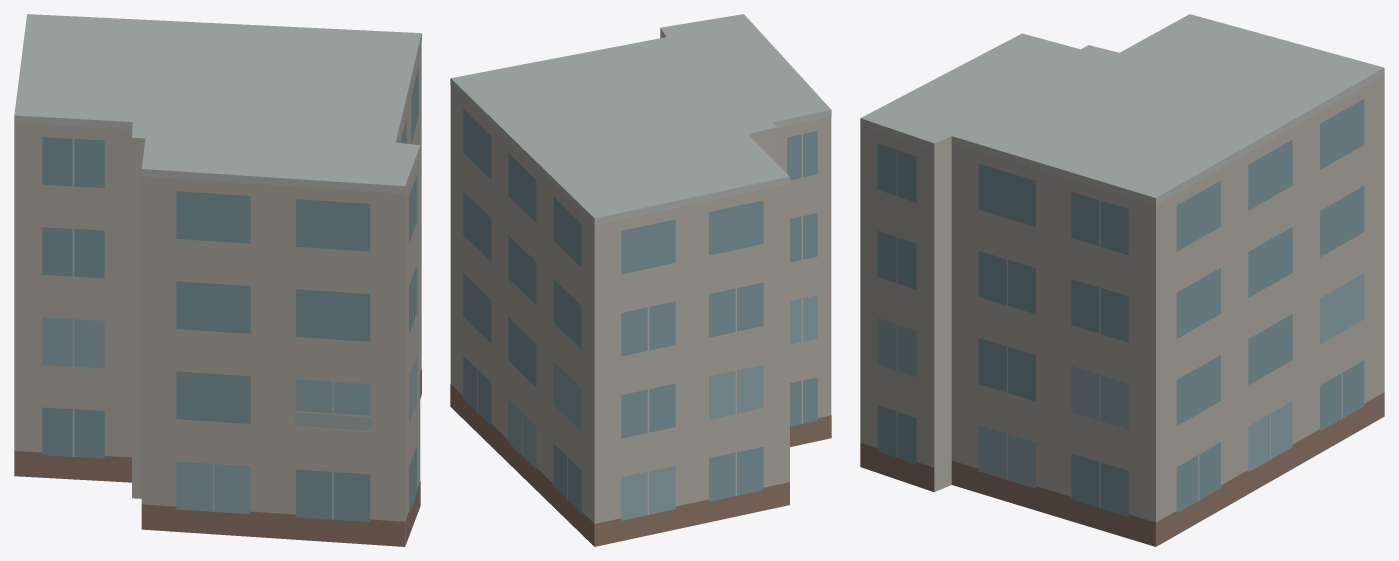
The model's file is survey-upis-32767761.glb.
3 views of the same model, side by side, from view 1: azimuth 30°, elevation 25°; view 2: azimuth 150°, elevation 25°; view 3: azimuth 270°, elevation 25° (orthographic). The views are drawn at different scales.
Visible parts, largest first — view 1: survey-upis-32767761.tmp; view 2: survey-upis-32767761.tmp; view 3: survey-upis-32767761.tmp.
Part boxes in pixels (<box>): survey-upis-32767761.tmp: <box>14,14,421,546</box>; survey-upis-32767761.tmp: <box>450,14,831,546</box>; survey-upis-32767761.tmp: <box>860,14,1384,546</box>.
Size of the model in its own units: 13.14 by 11.6 by 15.81.
